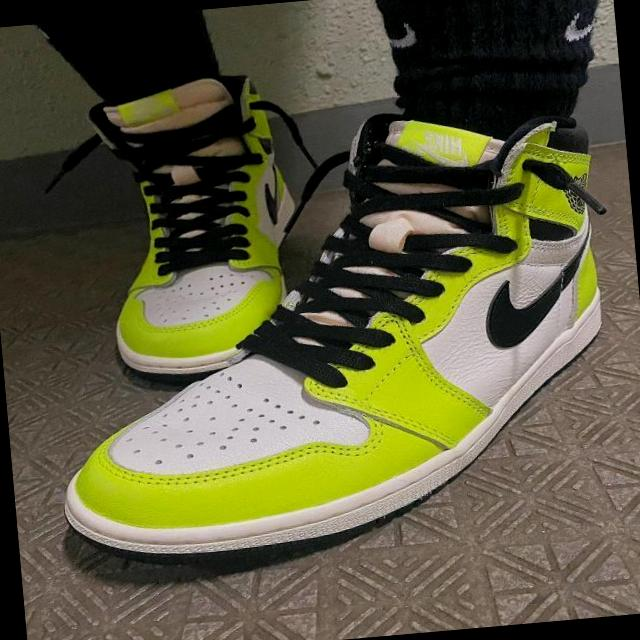nike_original_jordan: (61, 85, 626, 565), (86, 64, 323, 380)
